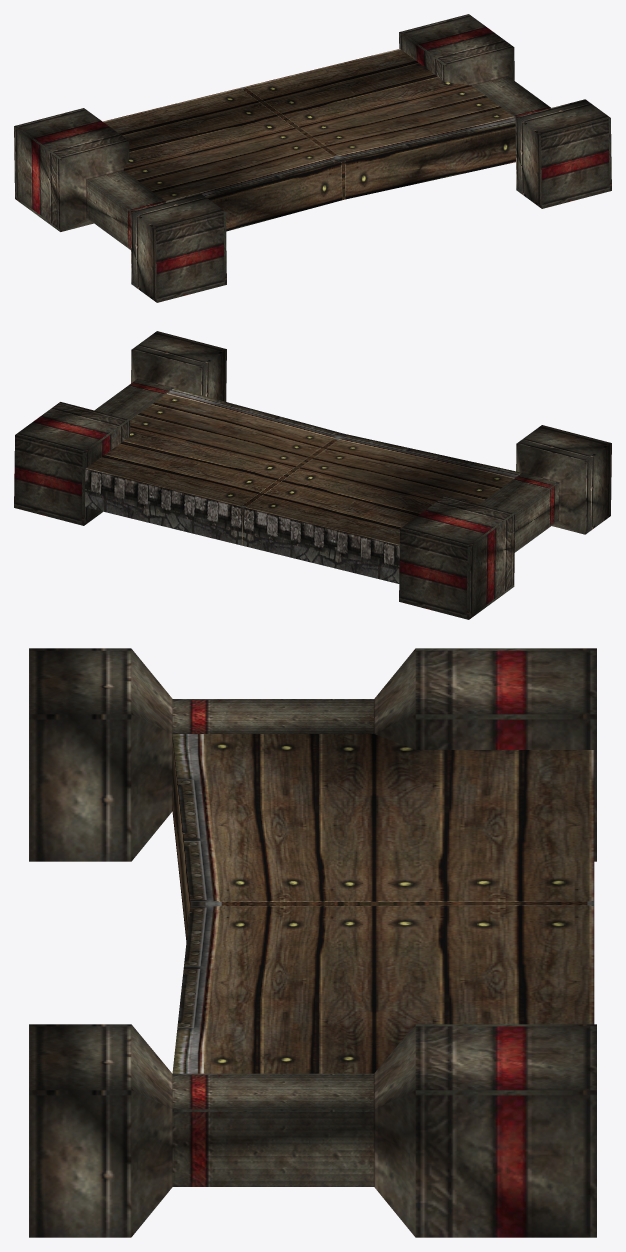
File: wall-04.obj
3 renders of one model, top to bottom at view 1: azimuth 30°, elevation 25°; view 2: azimuth 150°, elevation 25°; view 3: azimuth 270°, elevation 25°, orthographic. The views are drawn at different scales.
Visible parts, largest first — view 1: (null); view 2: (null); view 3: (null).
Boxes of the visible parts, <box> form: (null): <box>14,14,611,302</box>; (null): <box>14,331,611,619</box>; (null): <box>29,648,596,1237</box>.
Size of the model in its own units: 5.14 by 0.8002 by 2.77.
